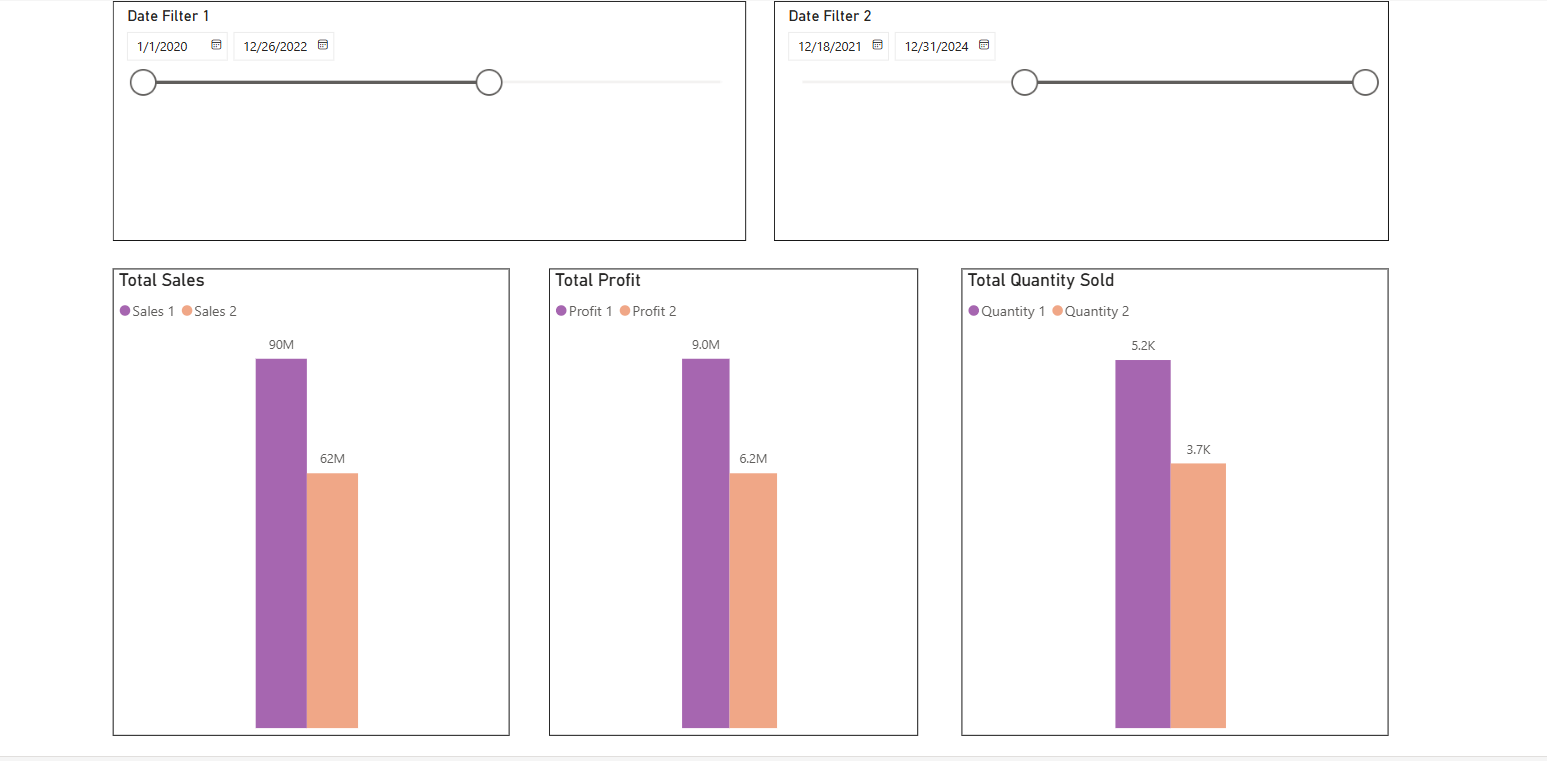

What the dashboard file says about the page in this screenshot:
{"tool":"powerbi","page":{"name":"Comparison Sales/Profit/Quantity","canvas":[1280,720],"ordinal":2},"visuals":[{"type":"slicer","fields":{"Values":["Date Table 1.Date"]},"box":[8.8,0,603.7,228.6],"z":0},{"type":"slicer","fields":{"Values":["Date Table 2.Date"]},"box":[638.8,0,586.1,228.6],"z":1000},{"type":"clusteredColumnChart","title":"Total Sales","fields":{"Y":["Sum(Fact Table.Net Sales)","Date Table 1.Sum Of Net Sales"]},"box":[8.8,254.9,378,445.4],"z":2000},{"type":"clusteredColumnChart","title":"Total Profit","fields":{"Y":["Sum(Fact Table.Profit)","Measures Table.Total Profit"]},"box":[424.9,254.9,351.7,445.4],"z":3000},{"type":"clusteredColumnChart","title":"Total Quantity Sold","fields":{"Y":["Sum(Fact Table.Units Sold)","Measures Table.Quantity Sold"]},"box":[817.6,254.9,407.3,445.4],"z":4000}]}

Visuals, with their boxes in screenshot pixels (x1, y1, x2, y2):
slicer - Date Table 1.Date: crop(114, 0, 744, 238)
slicer - Date Table 2.Date: crop(771, 0, 1382, 238)
"Total Sales" clusteredColumnChart: crop(114, 266, 508, 730)
"Total Profit" clusteredColumnChart: crop(548, 266, 915, 730)
"Total Quantity Sold" clusteredColumnChart: crop(957, 266, 1382, 730)
